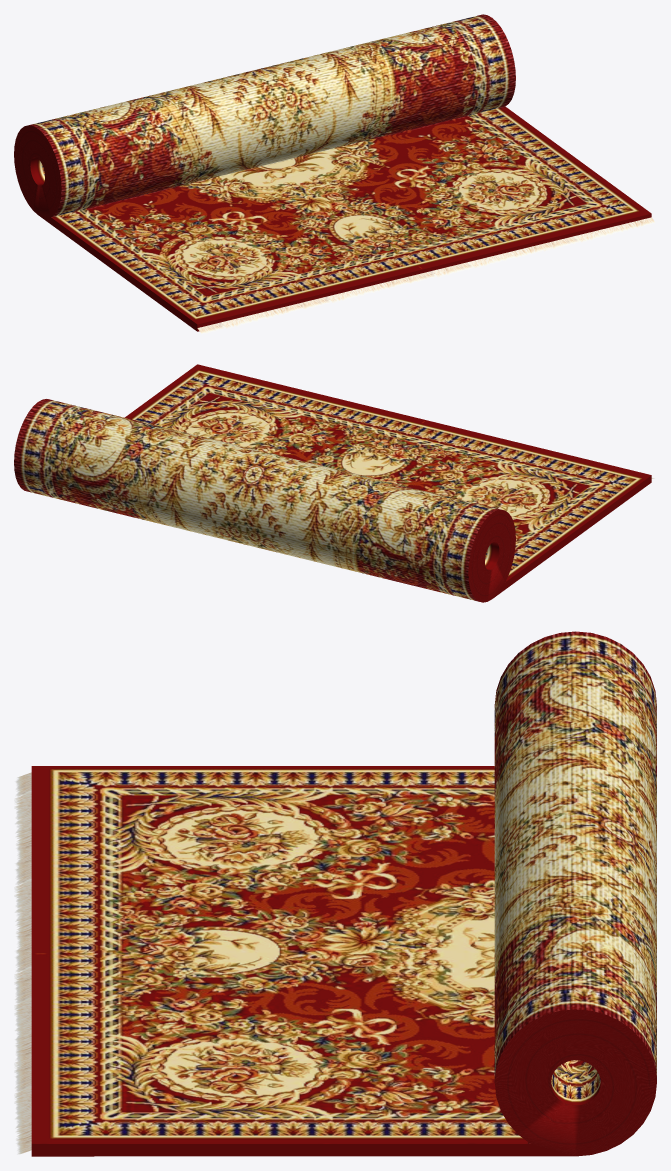
File: rolledCarpet.gltf
3 views of the same model, one above another, from view 1: azimuth 30°, elevation 25°; view 2: azimuth 150°, elevation 25°; view 3: azimuth 270°, elevation 25° (orthographic). The views are drawn at different scales.
Parts seen in each view (by area): view 1: Cube; view 2: Cube; view 3: Cube.
Boxes of the visible parts, left/top/right/bottom form: Cube: left=14, top=14, right=654, bottom=333; Cube: left=14, top=364, right=654, bottom=602; Cube: left=14, top=631, right=656, bottom=1156.
Bounding box in the file's own units: 1.61 × 0.2929 × 1.16.
Materials: 1 (1 with a texture image).
